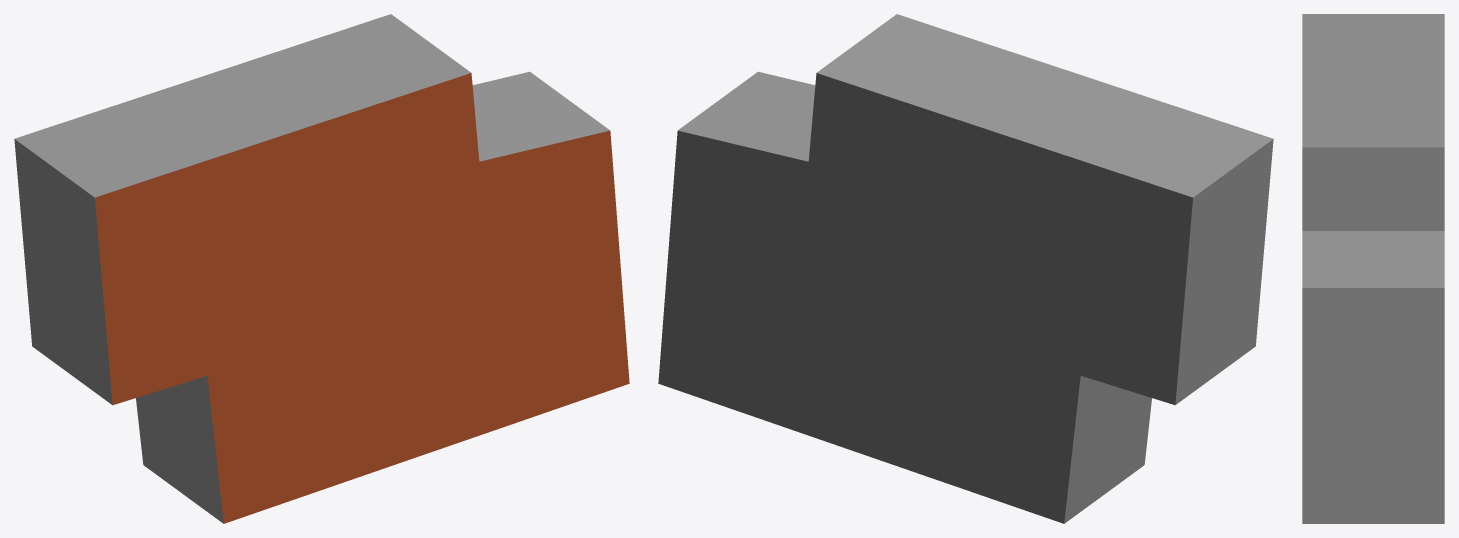
File: construction_2618_assumed_A_Casa_h6m.obj
3 views of the same model, side by side, from view 1: azimuth 30°, elevation 25°; view 2: azimuth 150°, elevation 25°; view 3: azimuth 270°, elevation 25° (orthographic). The views are drawn at different scales.
Visible parts, largest first — view 1: construction_2618_assumed_A_Casa; view 2: construction_2618_assumed_A_Casa; view 3: construction_2618_assumed_A_Casa.
Boxes of the visible parts, <box> form: construction_2618_assumed_A_Casa: <box>14,14,629,523</box>; construction_2618_assumed_A_Casa: <box>658,14,1273,523</box>; construction_2618_assumed_A_Casa: <box>1302,14,1444,523</box>.
Bounding box in the file's own units: 23.02 × 16.07 × 6.
